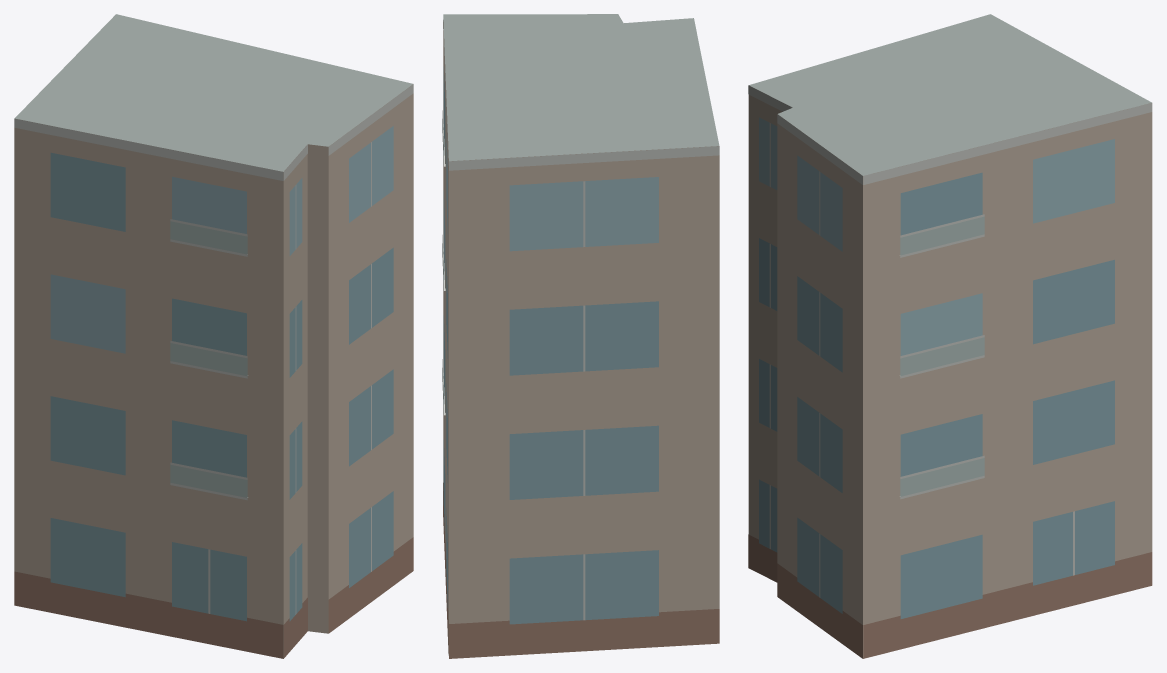
File: survey-upis-32460513.glb
The picture shows the model from 3 angles, left to right: view 1: azimuth 30°, elevation 25°; view 2: azimuth 150°, elevation 25°; view 3: azimuth 270°, elevation 25°; orthographic projection. The views are drawn at different scales.
Parts seen in each view (by area): view 1: survey-upis-32460513.tmp; view 2: survey-upis-32460513.tmp; view 3: survey-upis-32460513.tmp.
Boxes of the visible parts, box(x1,y1,x2,y2) form: survey-upis-32460513.tmp: box(14, 14, 413, 658); survey-upis-32460513.tmp: box(442, 14, 719, 658); survey-upis-32460513.tmp: box(748, 14, 1152, 658).
Size of the model in its own units: 9.22 by 12.8 by 9.71.
